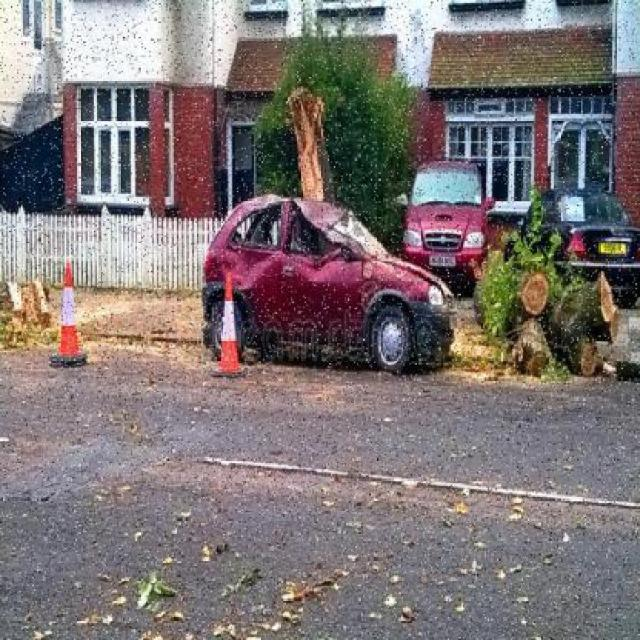doorouter-dent: (282, 257, 365, 337), (223, 248, 279, 341)
fender-dent: (363, 268, 426, 310)
roof-dent: (238, 194, 354, 226)
